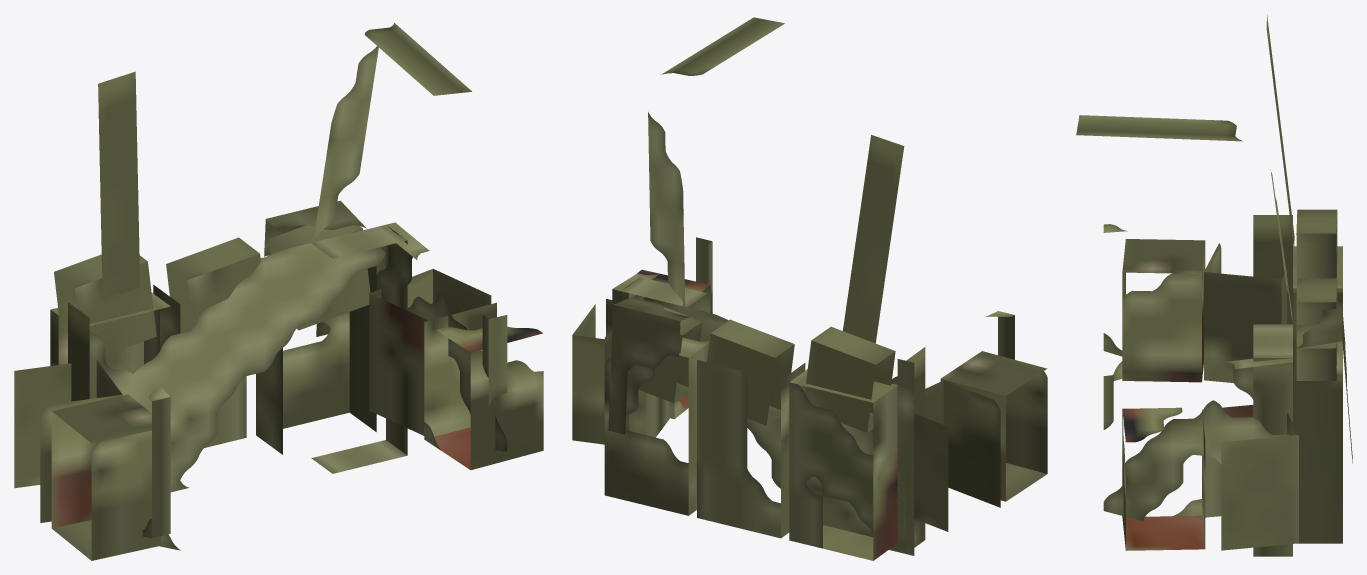
File: vietnamese_basic.obj
The picture shows the model from 3 angles, left to right: view 1: azimuth 30°, elevation 25°; view 2: azimuth 150°, elevation 25°; view 3: azimuth 270°, elevation 25°; orthographic projection. The views are drawn at different scales.
Parts seen in each view (by area): view 1: mesh; view 2: mesh; view 3: mesh.
Part boxes in pixels (<box>): mesh: <box>14,23,543,560</box>; mesh: <box>572,17,1047,560</box>; mesh: <box>1076,15,1352,556</box>.
Size of the model in its own units: 0.7553 by 0.7125 by 0.4337.
